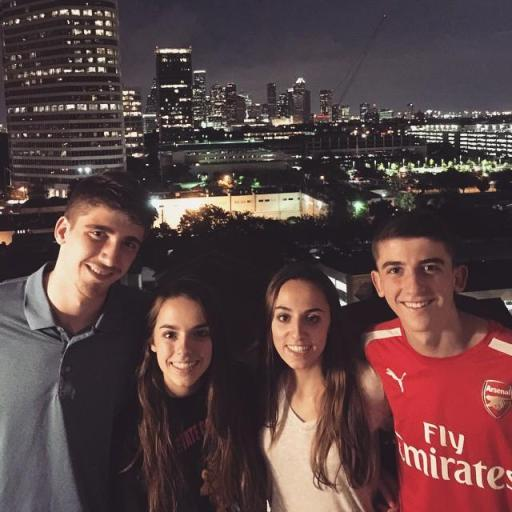Emirates: (390, 418, 510, 495)
